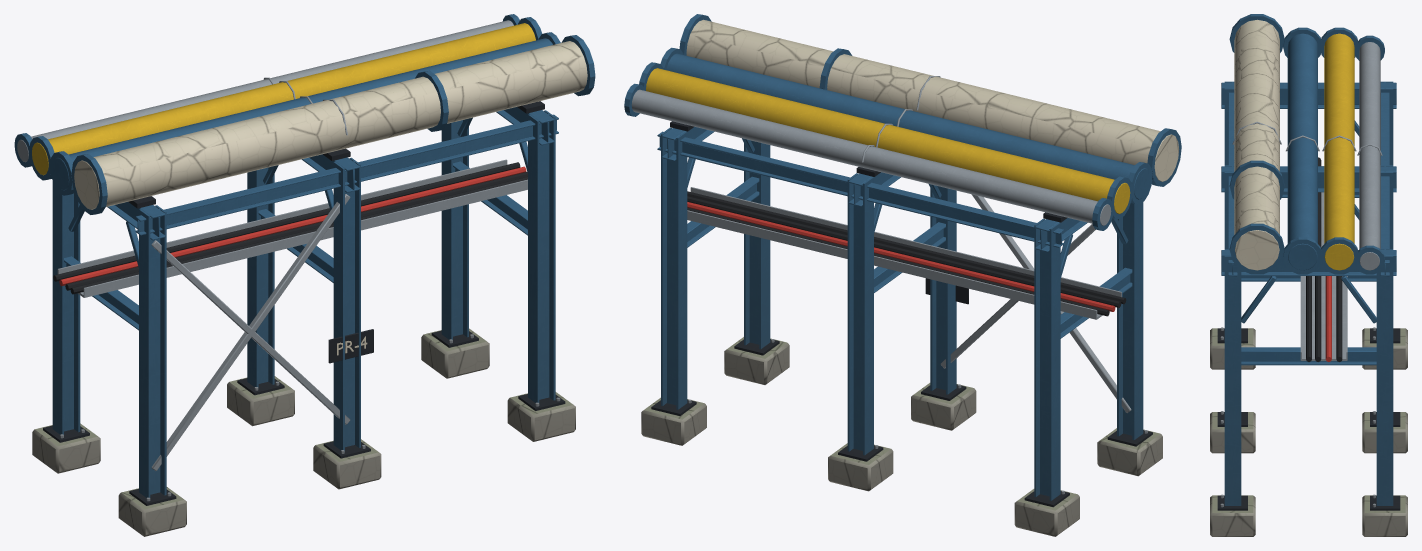
File: pipe_rack.glb
The picture shows the model from 3 angles, left to right: view 1: azimuth 30°, elevation 25°; view 2: azimuth 150°, elevation 25°; view 3: azimuth 270°, elevation 25°; orthographic projection. The views are drawn at different scales.
Parts seen in each view (by area): view 1: pipe_rack; view 2: pipe_rack; view 3: pipe_rack.
Boxes of the visible parts, <box> form: pipe_rack: <box>14,14,595,536</box>; pipe_rack: <box>624,14,1181,536</box>; pipe_rack: <box>1210,14,1407,536</box>.
Size of the model in its own units: 6.6 by 4.71 by 2.6.
12 materials, 12 textured.
